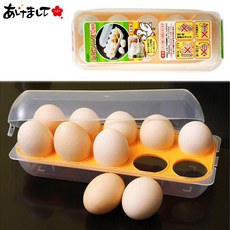egg: (17, 103, 213, 164), (80, 172, 163, 218)
